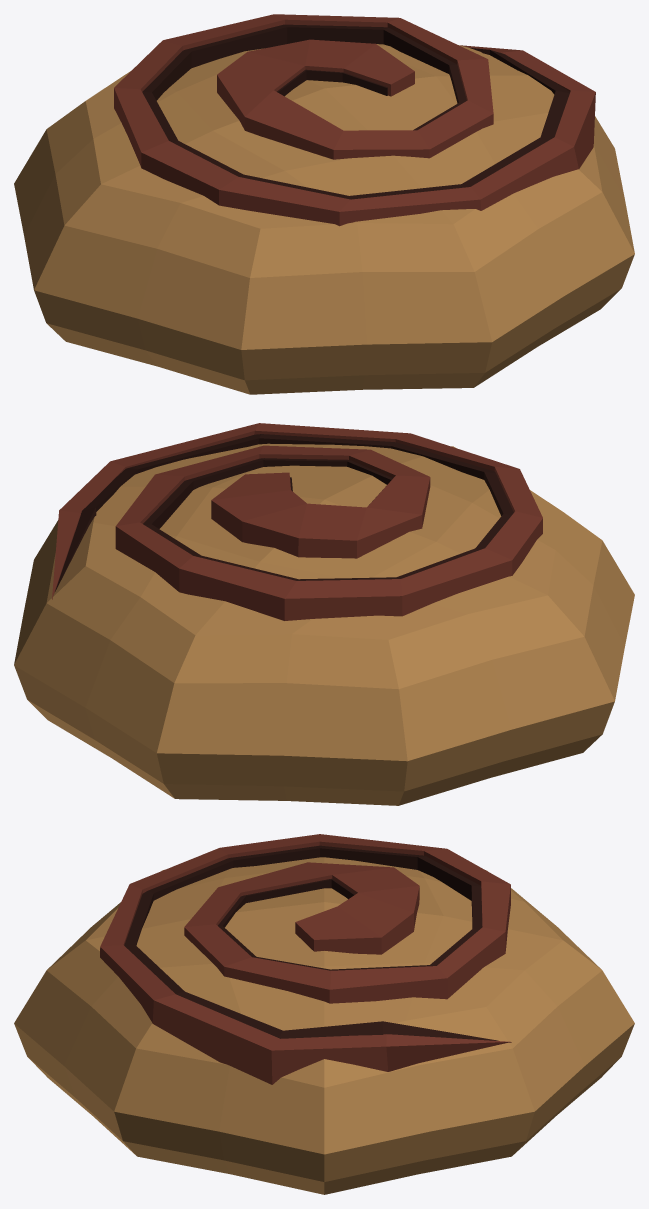
The model's file is danish.fbx.
The picture shows the model from 3 angles, top to bottom: view 1: azimuth 30°, elevation 25°; view 2: azimuth 150°, elevation 25°; view 3: azimuth 270°, elevation 25°; orthographic projection. The views are drawn at different scales.
Visible parts, largest first — view 1: danish; view 2: danish; view 3: danish.
Boxes of the visible parts, x1,y1,x2,y2 form: danish: (14,14,634,394); danish: (14,423,634,805); danish: (14,834,634,1194).
Bounding box in the file's own units: 191 × 62.78 × 191.
